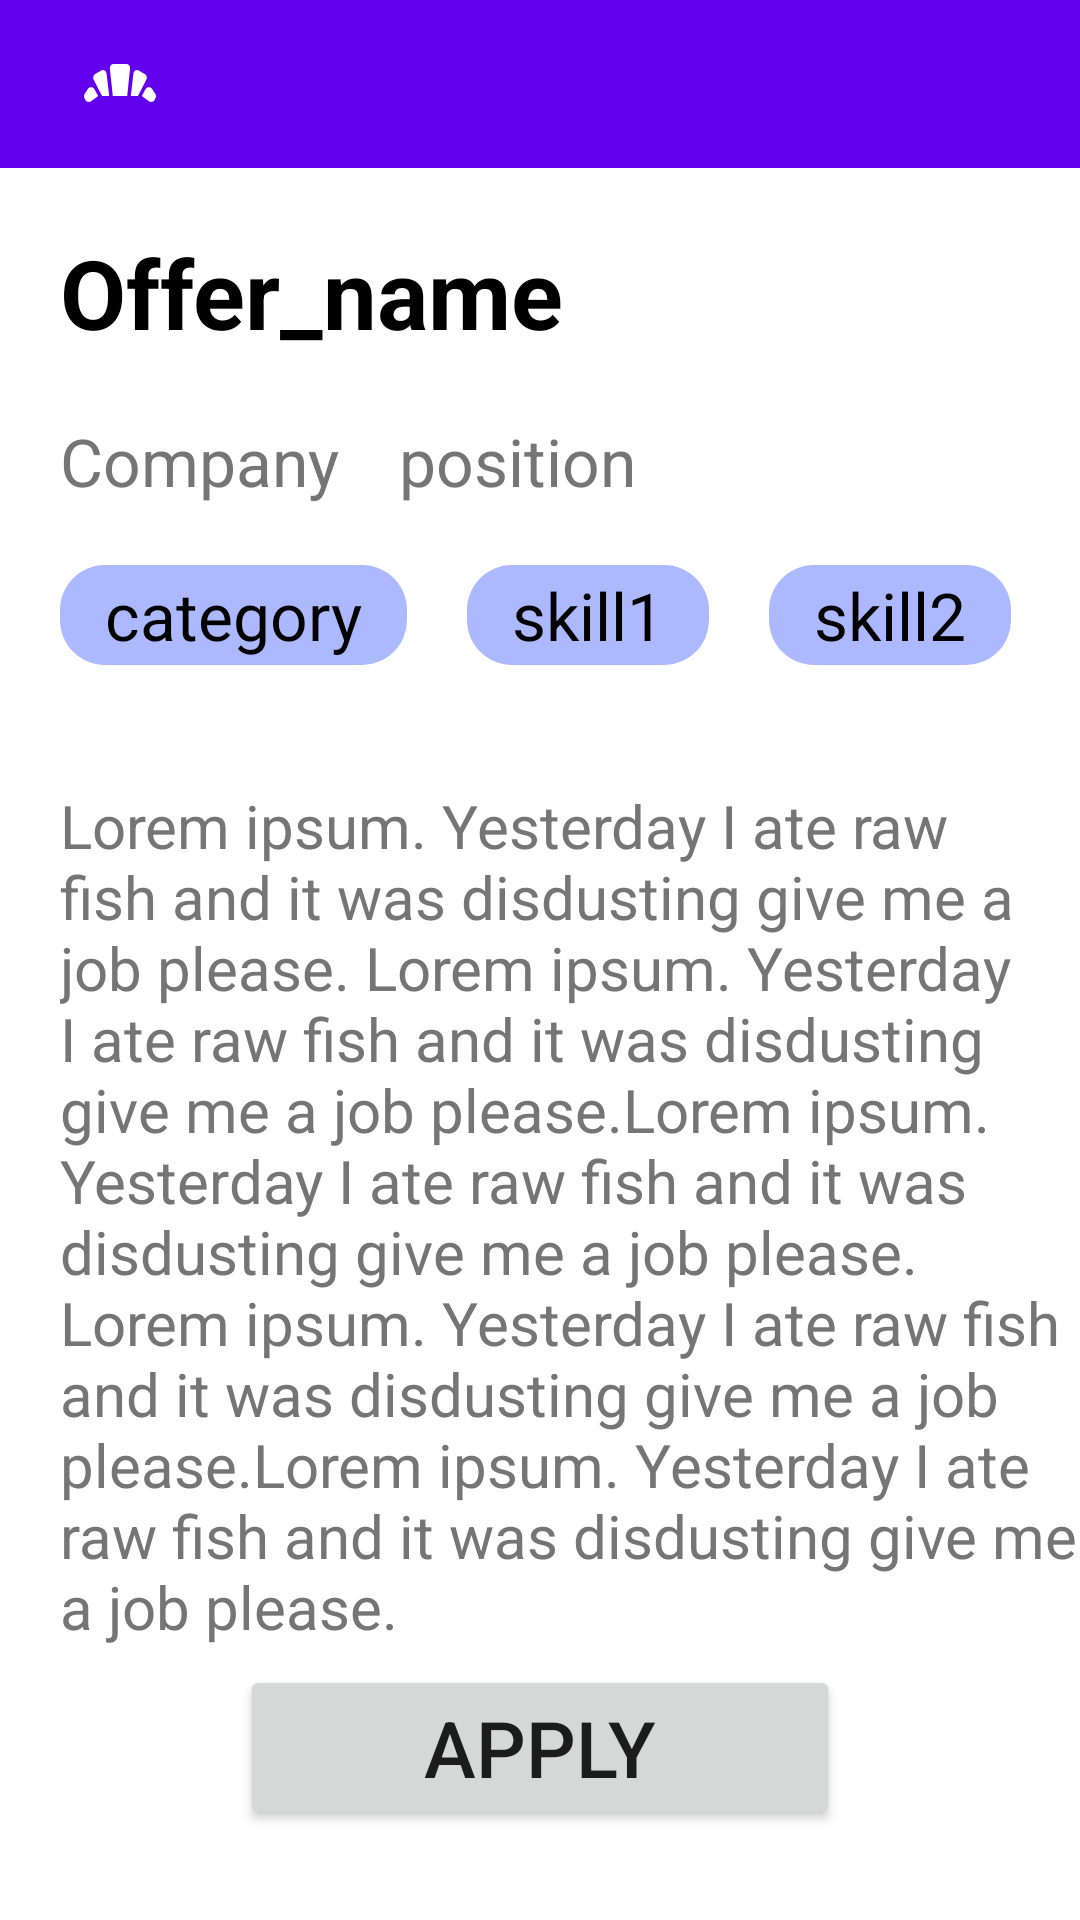

Icon click points for this 1080w x 1920h phone screenshot, format point (x, y):
croissant: point (120, 83)
